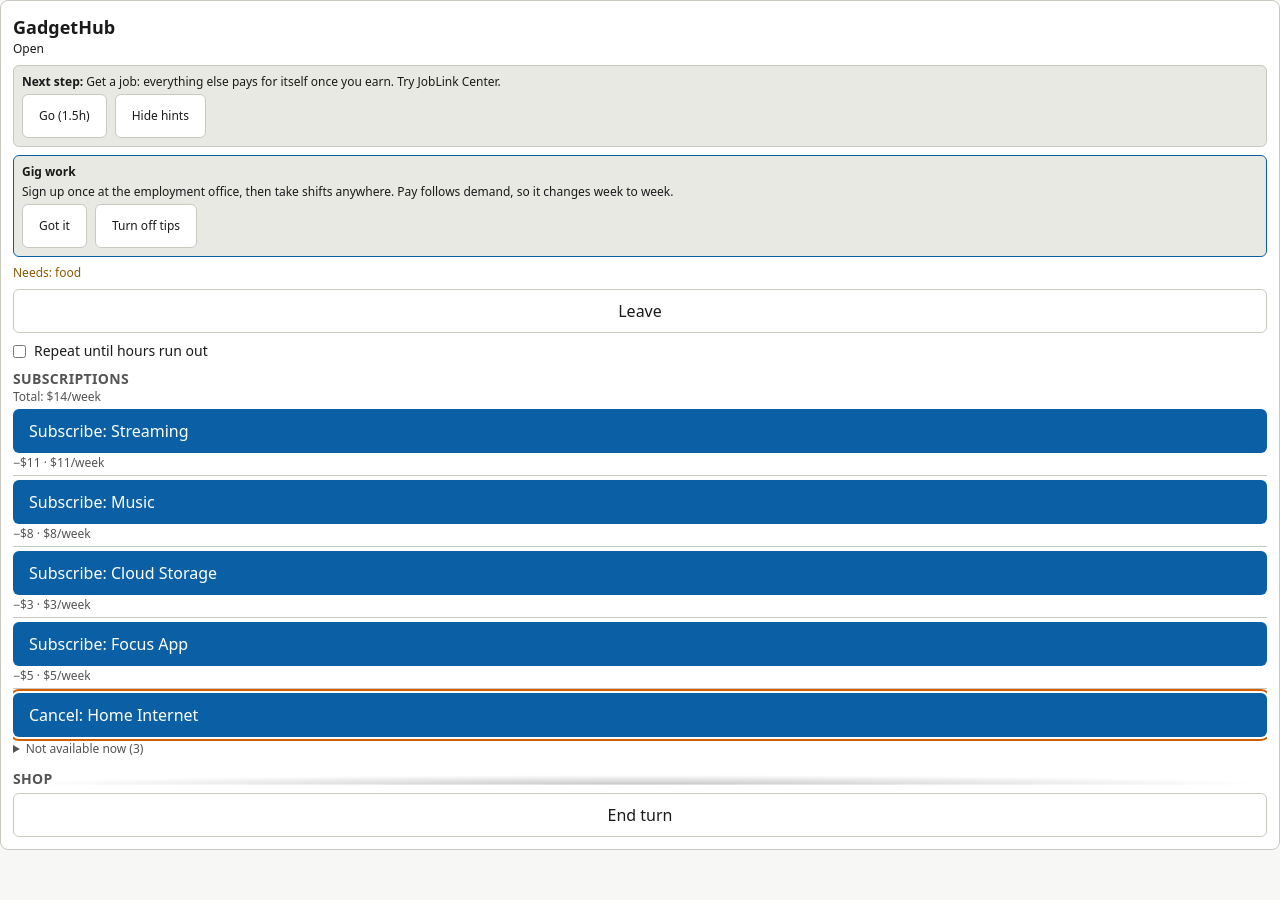
it: location panel › requires an accessible retention confirmation before cancelling a subscription
Click the button with test id "action-Unsubscribe:subId=home-internet" at (114,715), box [13,693,1267,737]
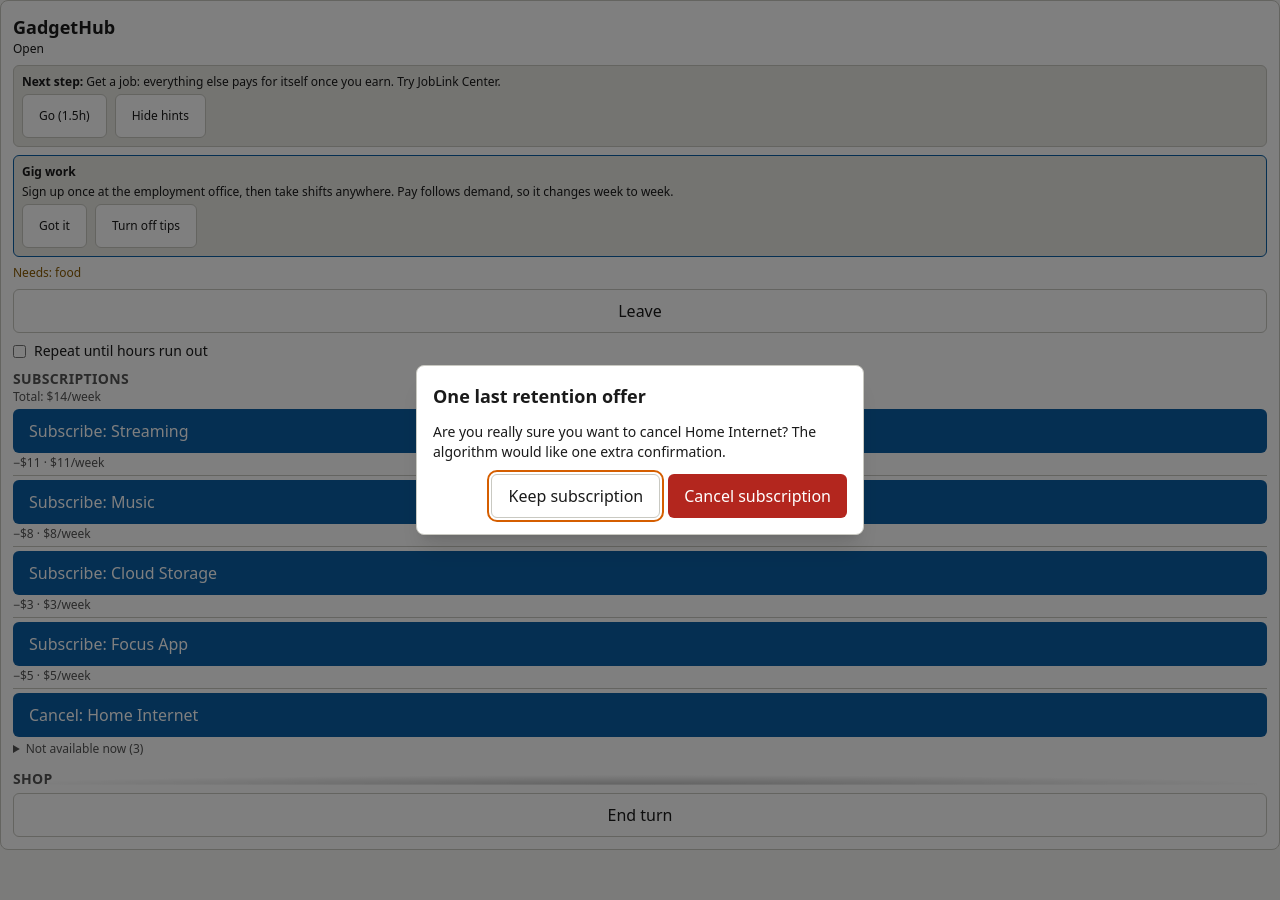
Expected: the dialog "One last retention offer" shows "Home Internet", [433,422,816,461]
Press Tab in the button with test id "subscription-cancel-keep", box [492,474,660,518]
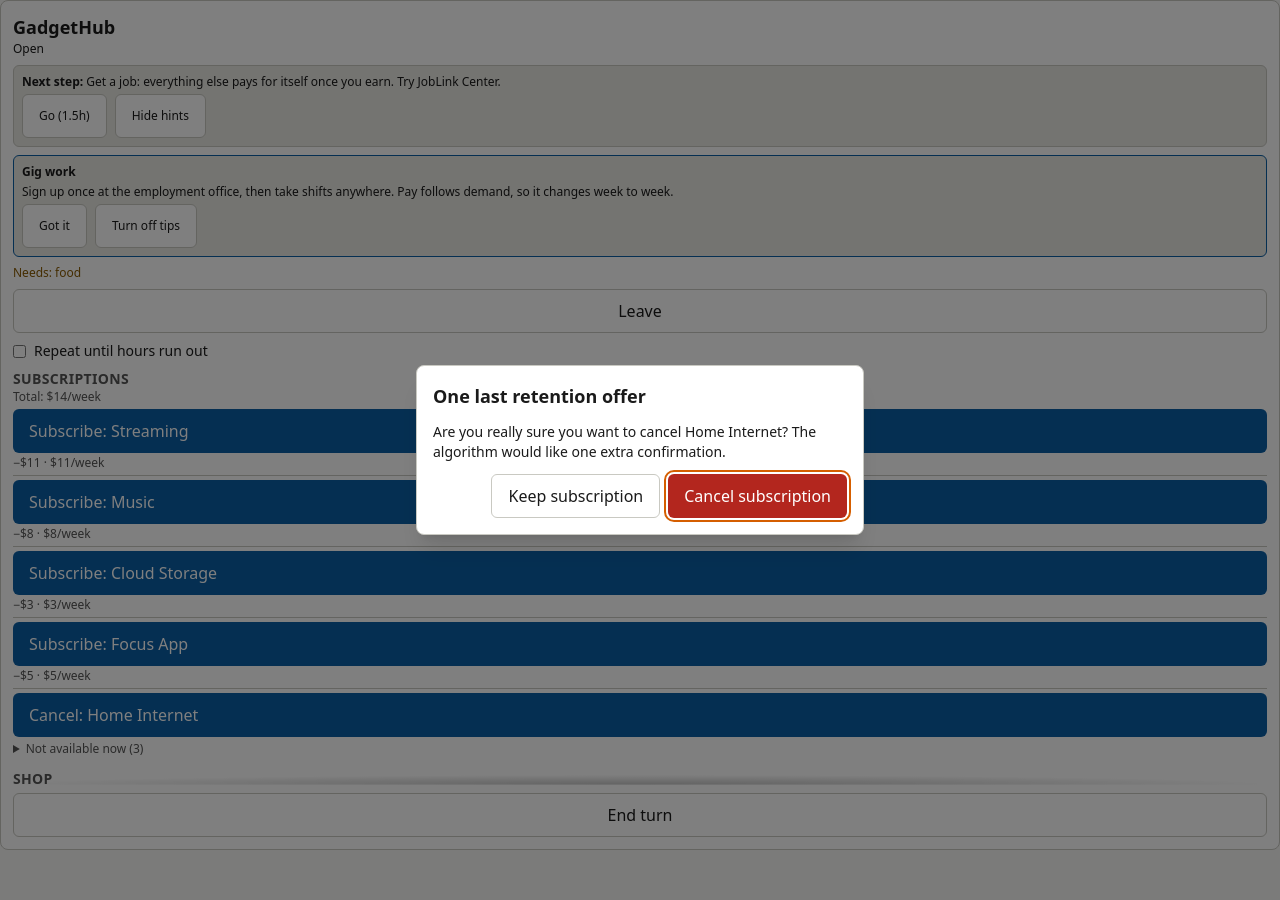
Press Tab in the button with test id "subscription-cancel-confirm", box [668,474,847,518]
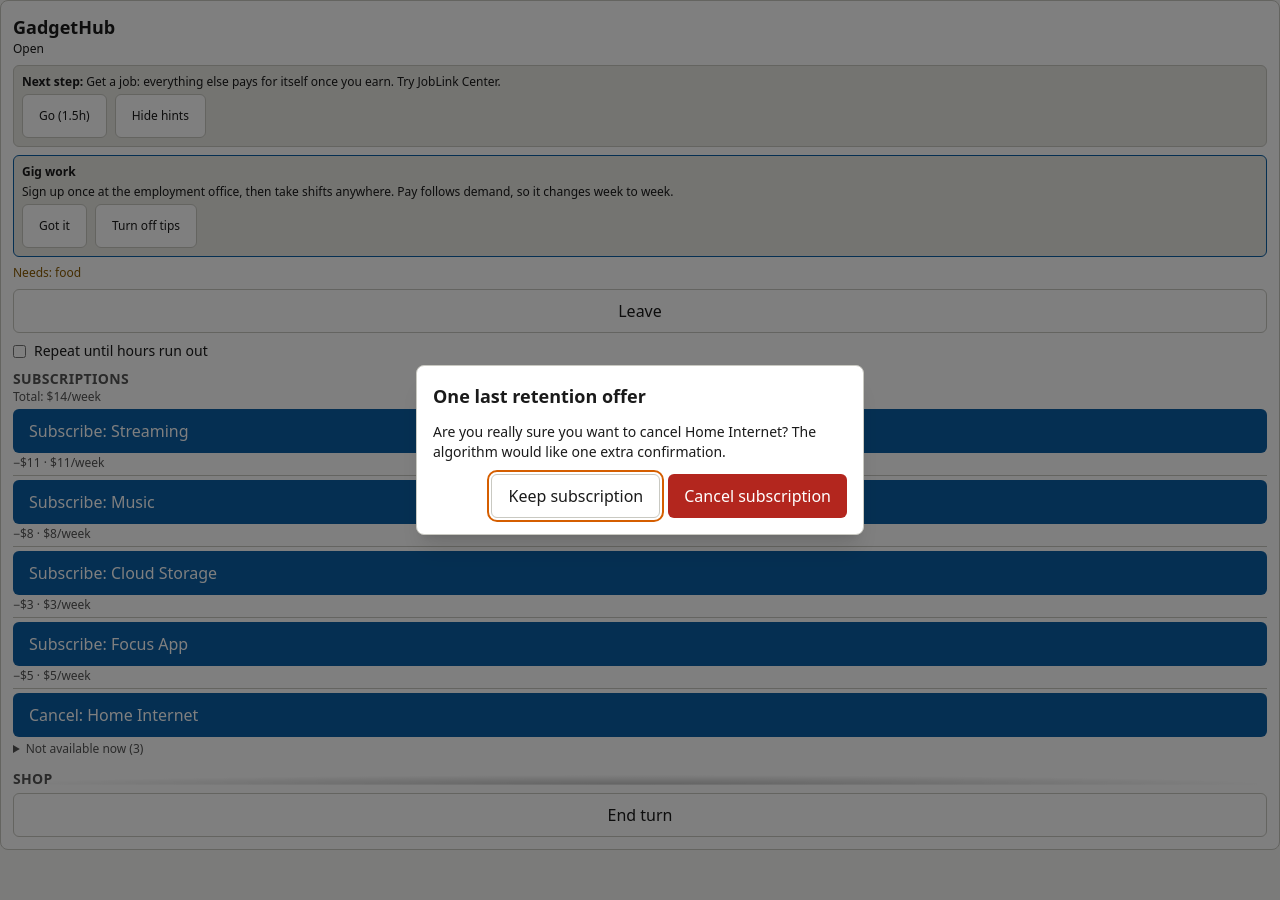
Press Escape in the dialog "One last retention offer"
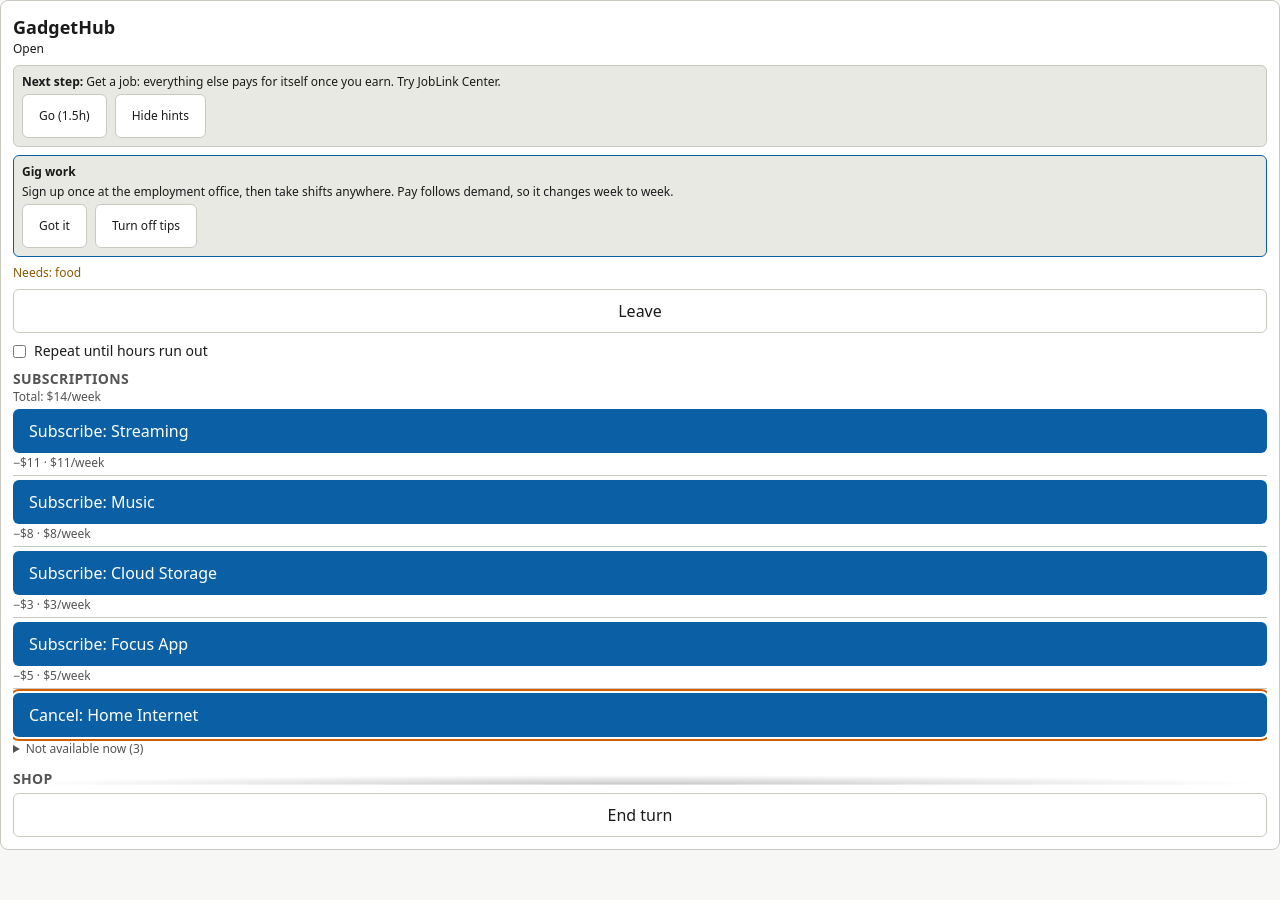
Expected: the dialog with test id "subscription-cancel-dialog" is gone
Click the button with test id "action-Unsubscribe:subId=home-internet" at (114,715), box [13,693,1267,737]
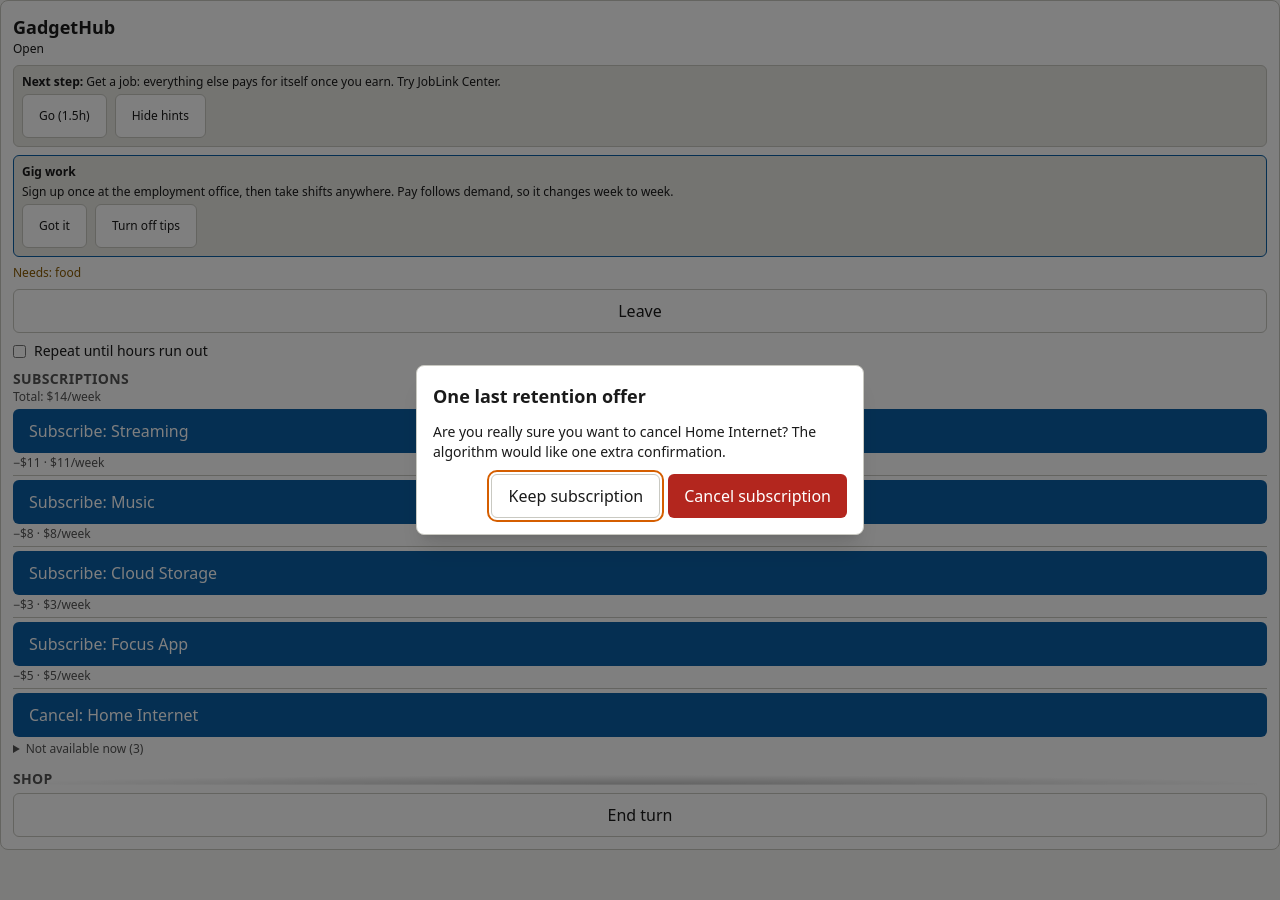
Click the button with test id "subscription-cancel-confirm" at (758,496), box [668,474,847,518]
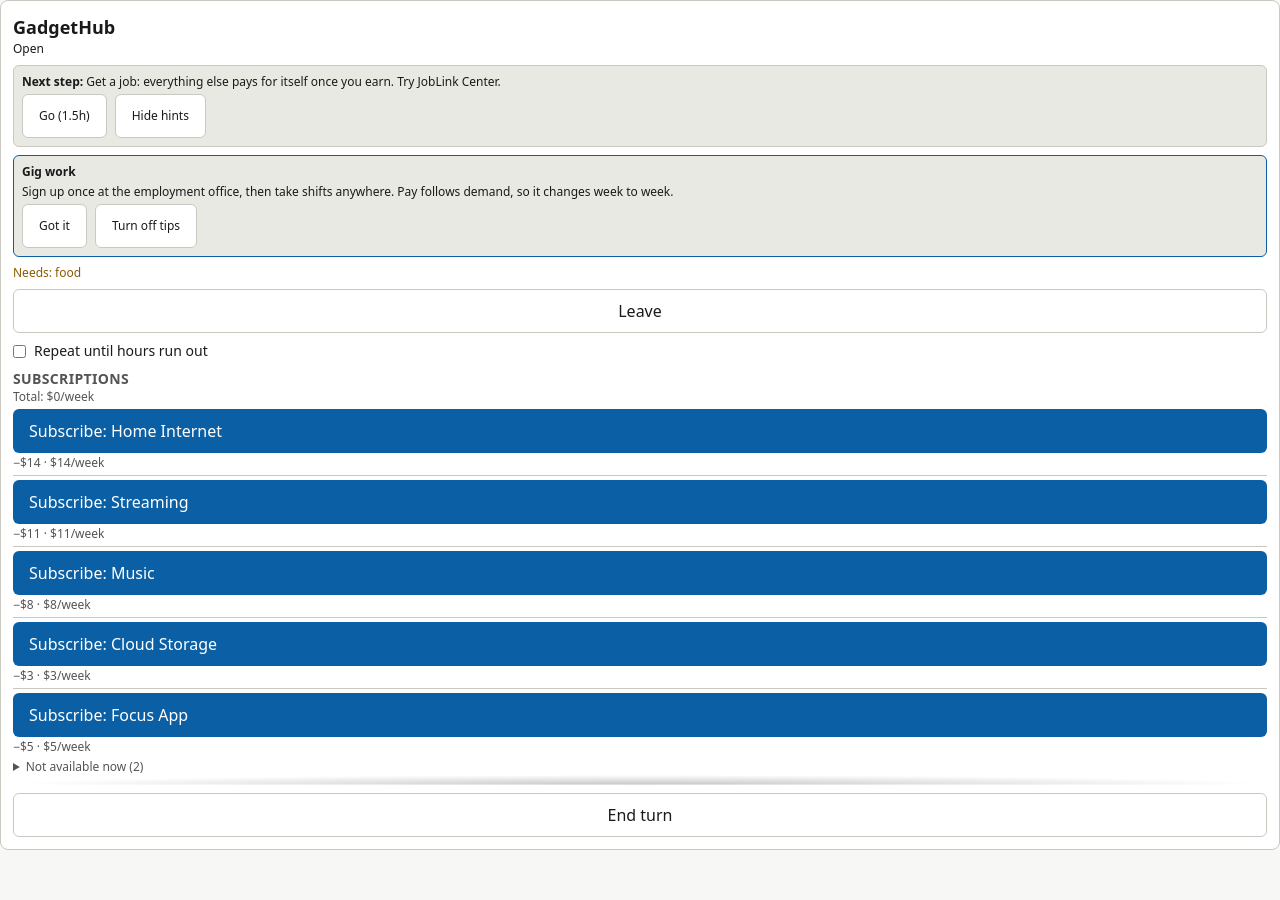
Expected: the text with test id "subscription-summary" shows "$0/week", [13,388,94,405]
